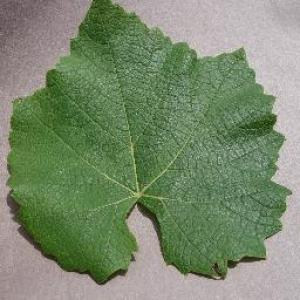Folha: (5, 0, 292, 285)
